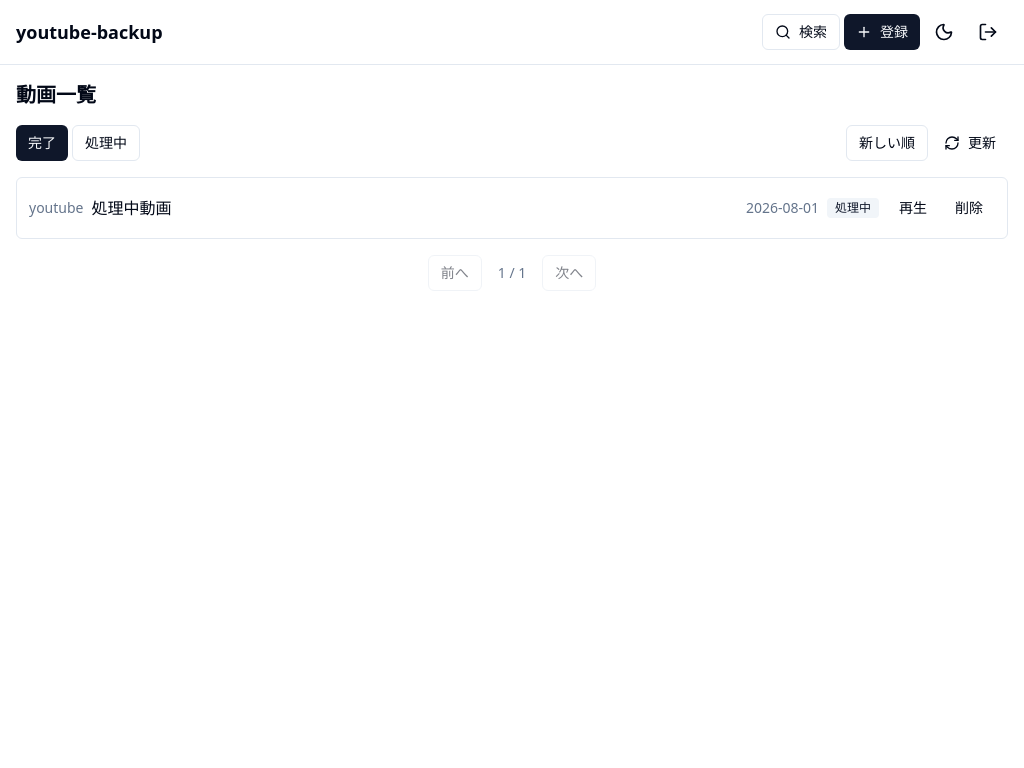
Test: 動画削除 結合（行→確認→削除 / US5.1・FR5.1・C4・C6・R-02） › バックアップ中（init）動画の削除は拒否通知が出て一覧は変化しない（R-02 / error-path）
Expected: the text "処理中動画" is shown, [92,197,172,219]
Click the button with aria-label "削除: 処理中動画".
click(969, 208)  # box [943,190,995,226]
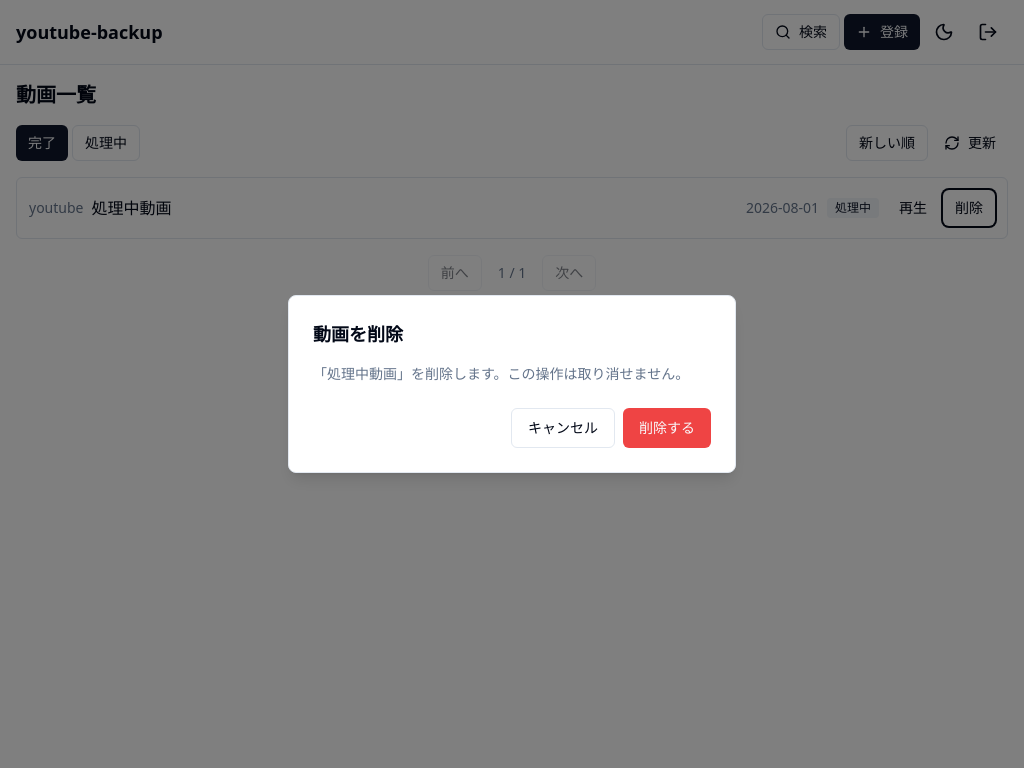
Expected: the dialog is shown, [288,295,736,473]
Click the button "削除する".
click(667, 428)  # box [623,408,711,448]
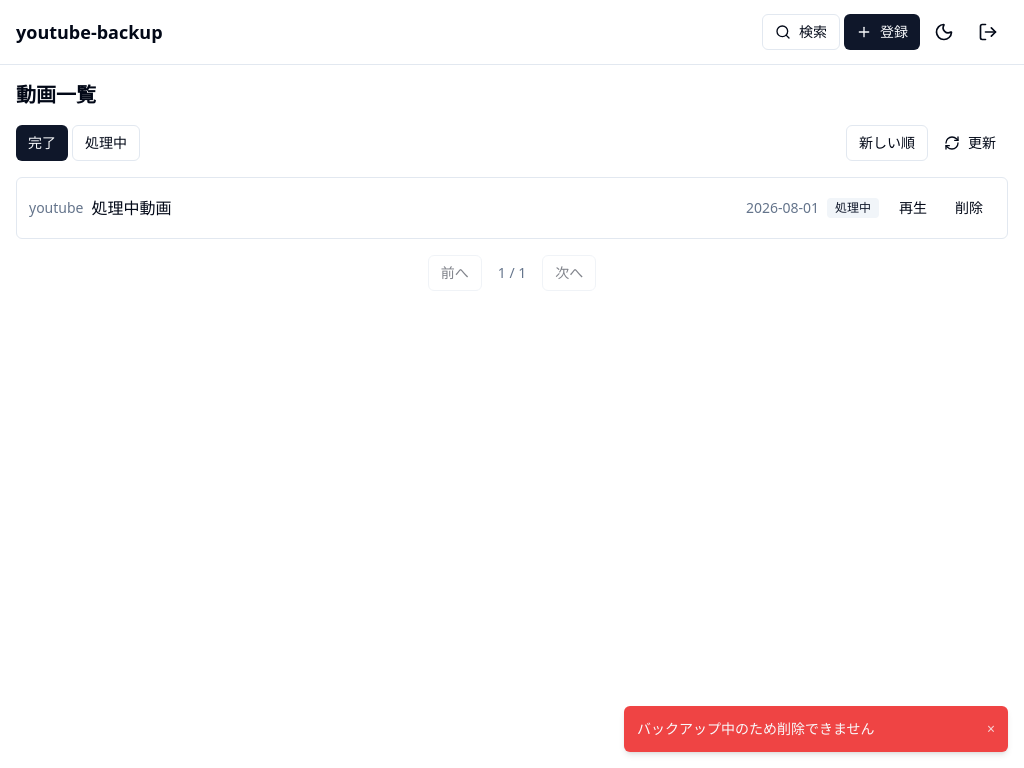
Expected: the button with aria-label "削除: 処理中動画" is shown, [943,190,995,226]
Expected: the text "バックアップ中のため削除できません" is shown, [637,719,875,739]
Expected: the dialog is gone
